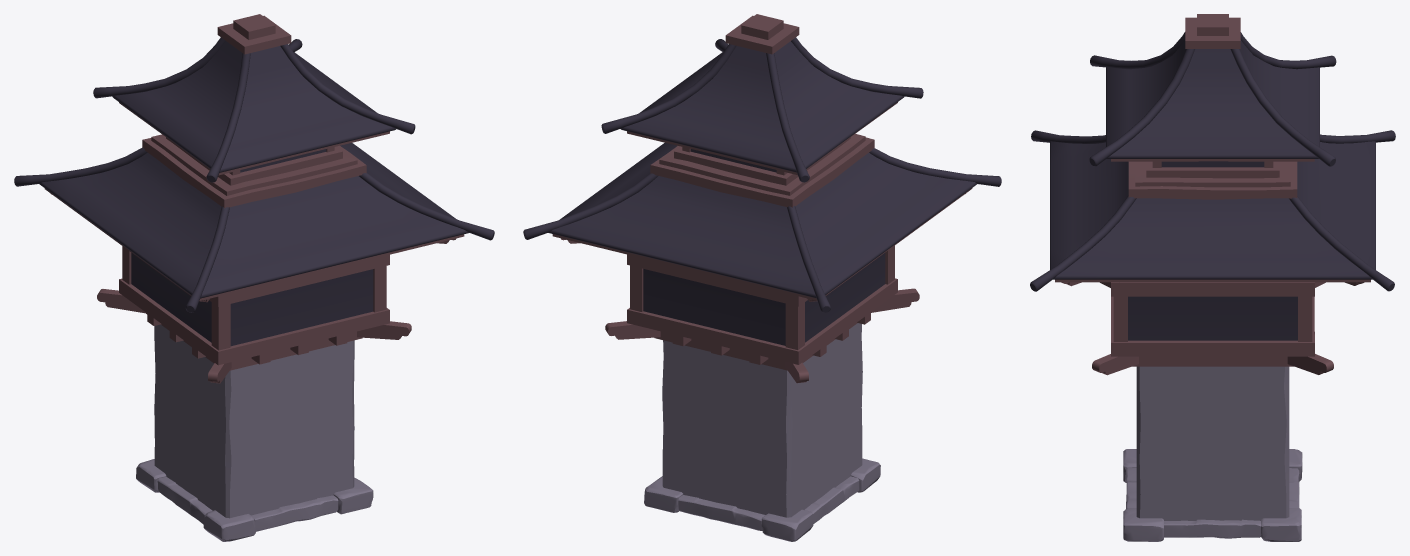
The model's file is tower_01.fbx.
3 renders of one model, left to right at view 1: azimuth 30°, elevation 25°; view 2: azimuth 150°, elevation 25°; view 3: azimuth 270°, elevation 25°, orthographic. The views are drawn at different scales.
Visible parts, largest first — view 1: tower_01; view 2: tower_01; view 3: tower_01.
Boxes of the visible parts, left/top/right/bottom form: tower_01: left=14, top=14, right=494, bottom=541; tower_01: left=523, top=14, right=1001, bottom=541; tower_01: left=1030, top=14, right=1395, bottom=541.
Size of the model in its own units: 717 by 1048 by 718.
